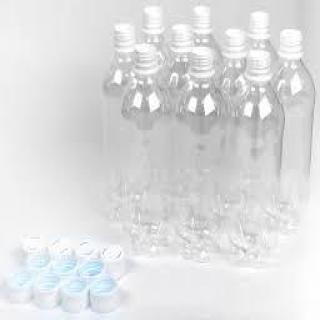Plastic-bottle: (176, 48, 235, 268), (119, 45, 178, 258), (232, 48, 286, 271), (275, 22, 315, 238), (99, 19, 138, 225), (137, 1, 172, 72), (172, 21, 196, 89)
